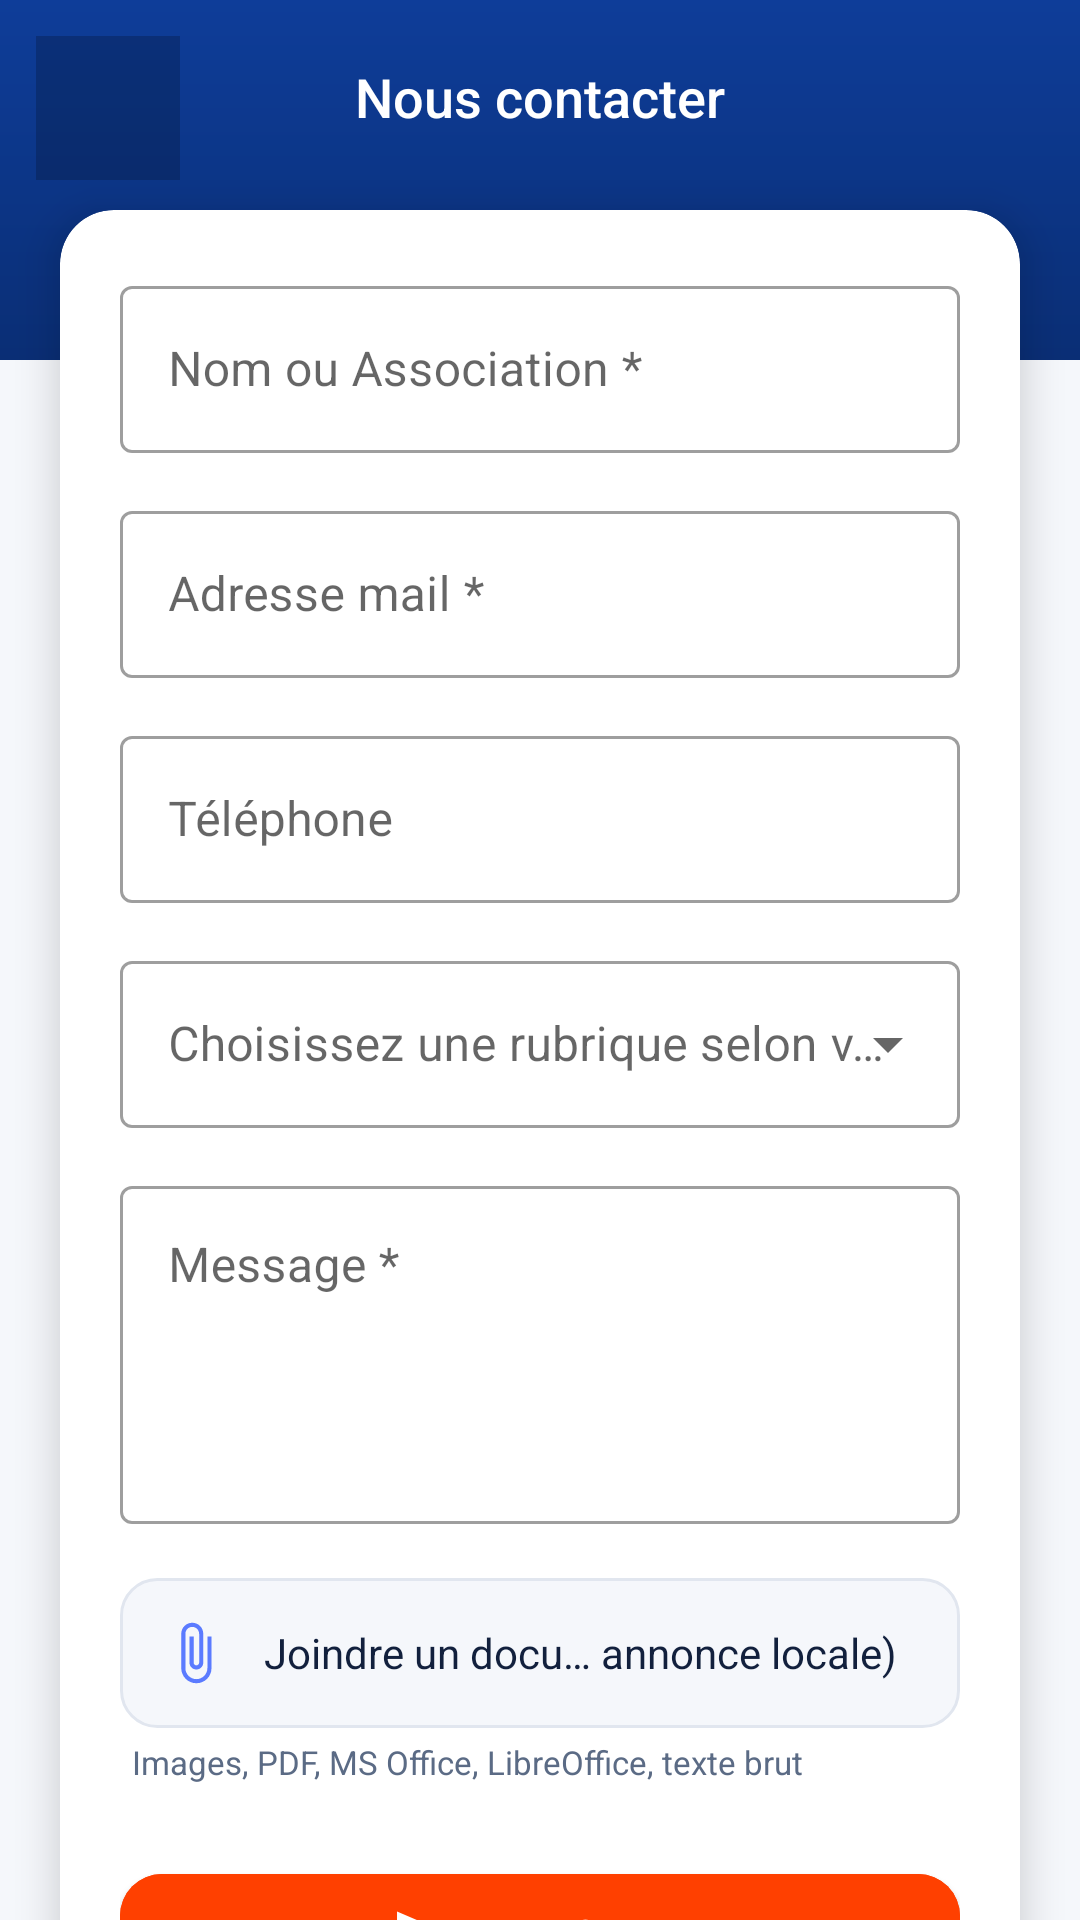

Screen size 1080px×1920px. Icon name, then its center in pixels as [x,y]:
attachment: [196,1653]
